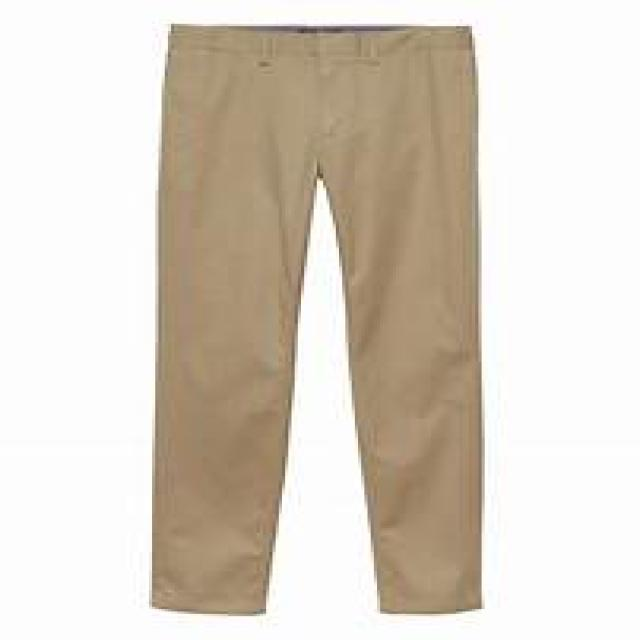long-pants: (149, 24, 488, 619)
